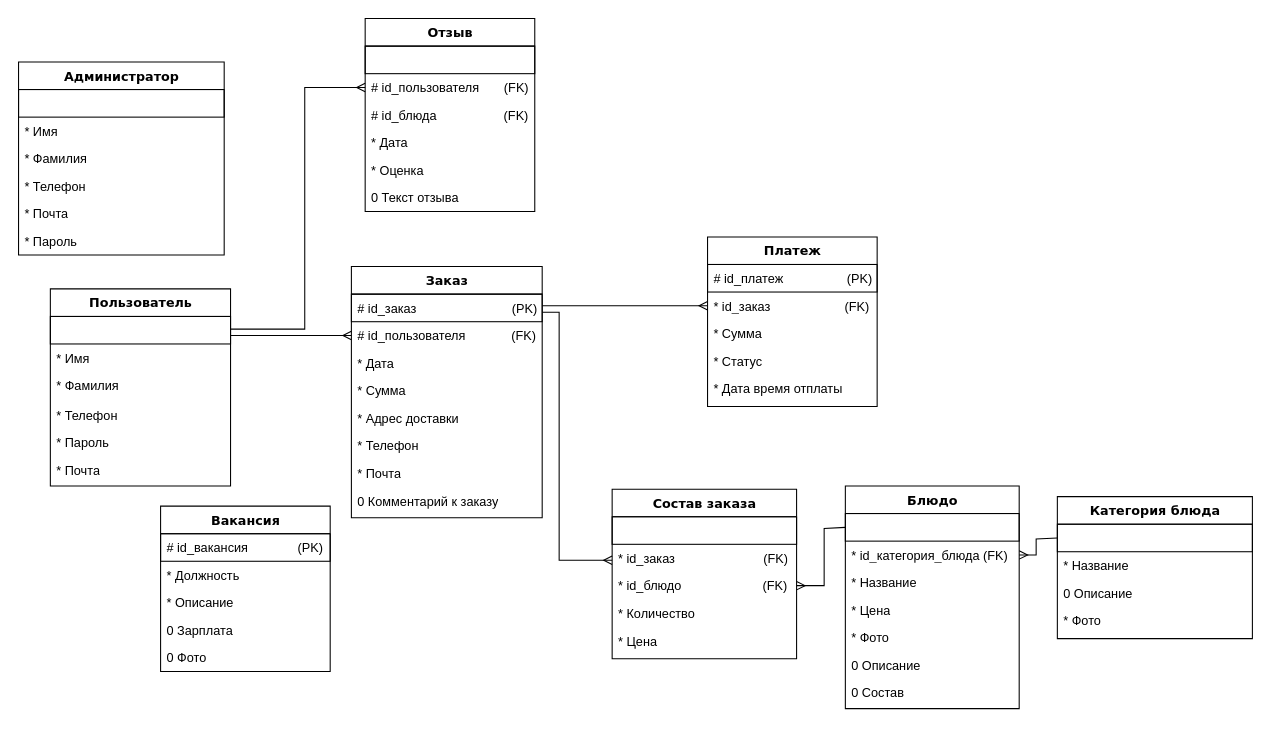
The diagram is 1271 pixels wide and 730 high, and some of its shapes have lost their labels. The centre of each missing label's shape, as x and y in pixels:
# id_администратор (PK): the point at 120,103
# id_блюдо (PK): the point at 931,527
# id_категория_блюда (PK): the point at 1154,537
# id_отзыв (PK): the point at 449,59
# id_пользователя (PK): the point at 140,329
# id_состав_заказа (PK): the point at 704,530
